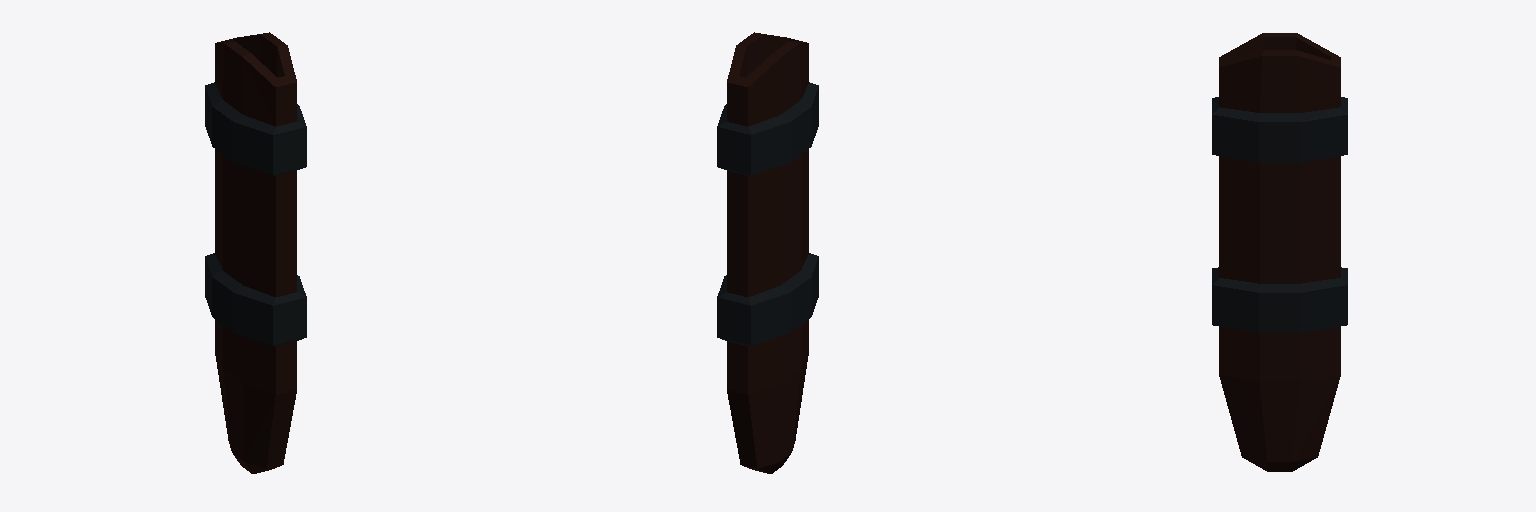
Rendered from iron_sword_sheath.obj.
The picture shows the model from 3 angles: view 1: azimuth 30°, elevation 25°; view 2: azimuth 150°, elevation 25°; view 3: azimuth 270°, elevation 25°; orthographic projection.
Visible parts, largest first — view 1: iron_sword_sheath_Cube.8742; view 2: iron_sword_sheath_Cube.8742; view 3: iron_sword_sheath_Cube.8742.
Part boxes in pixels (x1,y1,x2,y2): iron_sword_sheath_Cube.8742: (205,32,306,473); iron_sword_sheath_Cube.8742: (717,32,818,473); iron_sword_sheath_Cube.8742: (1212,33,1347,471).
Bounding box in the file's own units: 0.1314 × 0.8063 × 0.2332.